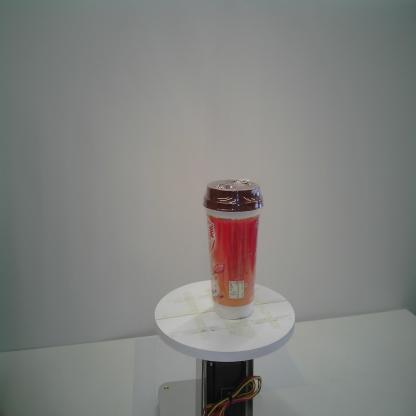Instant Drink: (202, 177, 265, 320)
